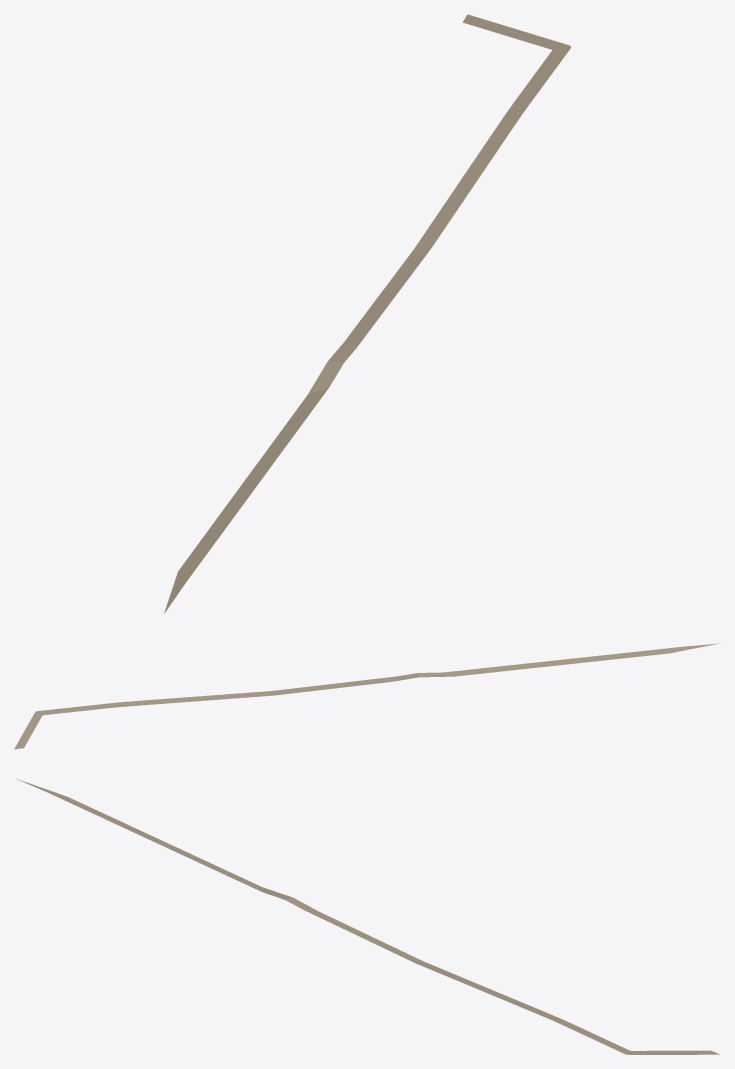
The model's file is farm_18_7_track.glb.
The picture shows the model from 3 angles, top to bottom: view 1: azimuth 30°, elevation 25°; view 2: azimuth 150°, elevation 25°; view 3: azimuth 270°, elevation 25°; orthographic projection. The views are drawn at different scales.
Visible parts, largest first — view 1: geometry_0; view 2: geometry_0; view 3: geometry_0.
Boxes of the visible parts, left/top/right/bottom form: geometry_0: left=164, top=14, right=571, bottom=613; geometry_0: left=14, top=643, right=720, bottom=749; geometry_0: left=17, top=779, right=719, bottom=1054.
Bounding box in the file's own units: 191 × 3.4 × 207.
